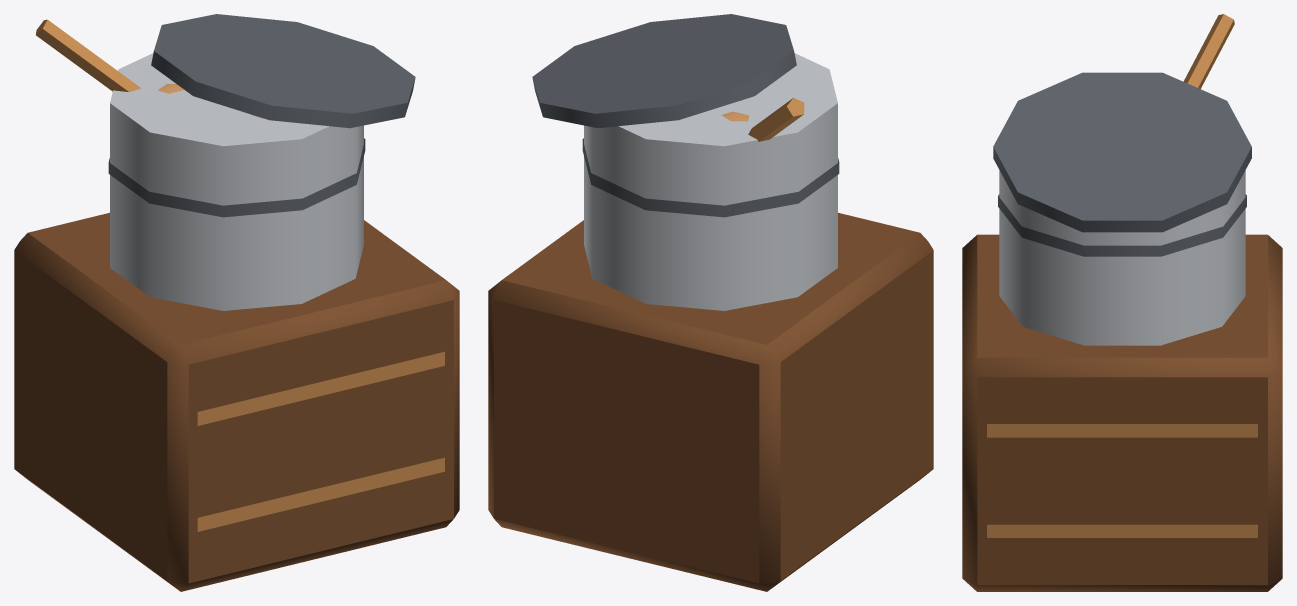
The model's file is prop_keema_pot.glb.
3 renders of one model, left to right at view 1: azimuth 30°, elevation 25°; view 2: azimuth 150°, elevation 25°; view 3: azimuth 270°, elevation 25°, orthographic. The views are drawn at different scales.
Visible parts, largest first — view 1: prop_keema_pot; view 2: prop_keema_pot; view 3: prop_keema_pot.
Part boxes in pixels (x1,y1,x2,y2): prop_keema_pot: [14, 14, 459, 591]; prop_keema_pot: [488, 14, 933, 591]; prop_keema_pot: [962, 14, 1282, 591].
Size of the model in its own units: 0.2711 by 0.4063 by 0.2601.
Materials: 1 (1 with a texture image).
